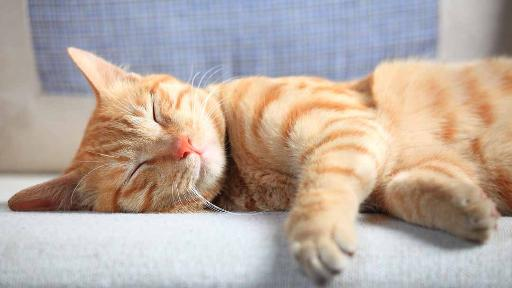cat_sleeping: (9, 47, 512, 283)
